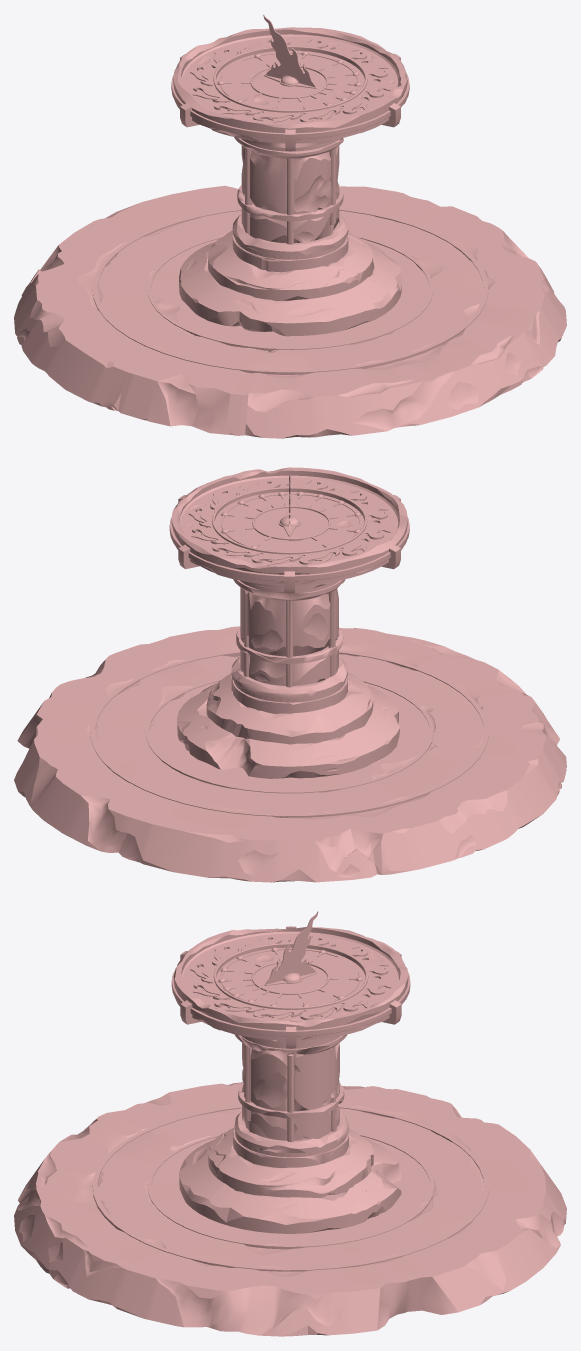
File: Sundial.fbx
The picture shows the model from 3 angles, top to bottom: view 1: azimuth 30°, elevation 25°; view 2: azimuth 150°, elevation 25°; view 3: azimuth 270°, elevation 25°; orthographic projection.
Parts seen in each view (by area): view 1: SundialUVd:polySurface536 SundialUVd:polySurface1, SundialUVd:polySurface621 SundialUVd:polySurface1, polySurface40, polySurface2; view 2: SundialUVd:polySurface536 SundialUVd:polySurface1, SundialUVd:polySurface621 SundialUVd:polySurface1, polySurface40; view 3: SundialUVd:polySurface536 SundialUVd:polySurface1, SundialUVd:polySurface621 SundialUVd:polySurface1, polySurface40, polySurface1.
Boxes of the visible parts, x1=… form: SundialUVd:polySurface536 SundialUVd:polySurface1: x1=14, y1=27, x2=566, y2=438; SundialUVd:polySurface621 SundialUVd:polySurface1: x1=179, y1=137, x2=401, y2=336; polySurface40: x1=92, y1=34, x2=488, y2=374; polySurface2: x1=263, y1=15, x2=315, y2=87; SundialUVd:polySurface536 SundialUVd:polySurface1: x1=14, y1=467, x2=566, y2=882; SundialUVd:polySurface621 SundialUVd:polySurface1: x1=177, y1=579, x2=400, y2=778; polySurface40: x1=90, y1=475, x2=488, y2=817; SundialUVd:polySurface536 SundialUVd:polySurface1: x1=14, y1=927, x2=566, y2=1336; SundialUVd:polySurface621 SundialUVd:polySurface1: x1=179, y1=1034, x2=401, y2=1233; polySurface40: x1=92, y1=926, x2=489, y2=1271; polySurface1: x1=265, y1=912, x2=318, y2=984.
Size of the model in its own units: 44.09 by 26.52 by 44.09.
